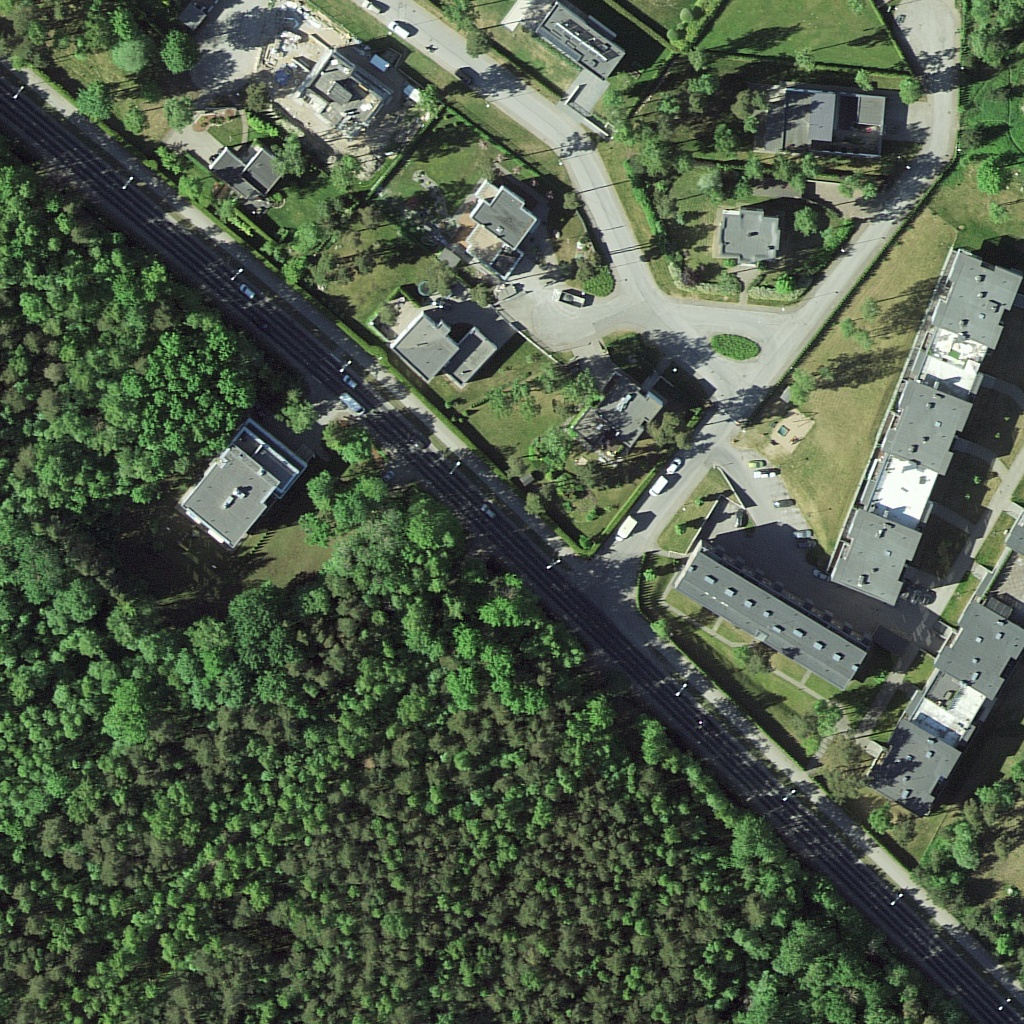building: (674, 549, 871, 690), (187, 439, 278, 550), (876, 376, 977, 476), (826, 503, 924, 606), (927, 250, 1024, 352), (867, 721, 961, 814), (573, 372, 666, 466), (937, 604, 1024, 703), (780, 83, 884, 162), (534, 5, 631, 84), (307, 50, 389, 137), (386, 307, 461, 387), (473, 184, 546, 253), (205, 142, 284, 202), (716, 206, 783, 267)
